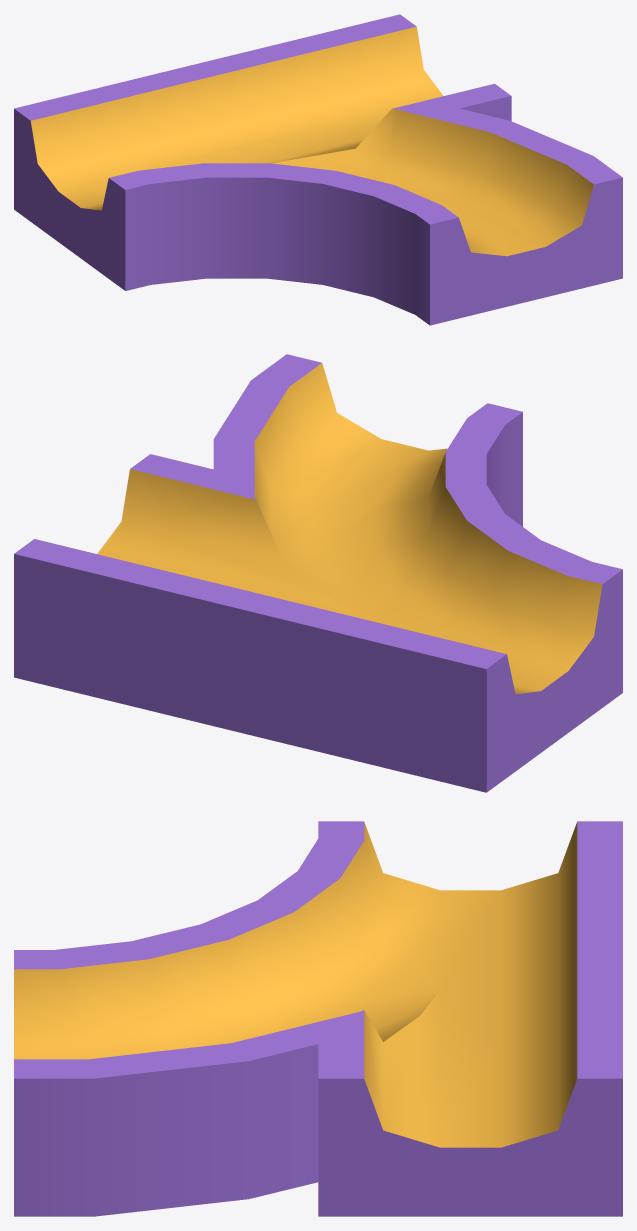
File: kenney-marble-split-right.glb
The picture shows the model from 3 angles, top to bottom: view 1: azimuth 30°, elevation 25°; view 2: azimuth 150°, elevation 25°; view 3: azimuth 270°, elevation 25°; orthographic projection. The views are drawn at different scales.
Parts seen in each view (by area): view 1: split-right; view 2: split-right; view 3: split-right.
Part boxes in pixels (bbox=[...]): split-right: bbox=[14, 14, 622, 325]; split-right: bbox=[14, 354, 622, 792]; split-right: bbox=[14, 821, 622, 1216].
Bounding box in the file's own units: 2 × 0.5001 × 2.
Materials: 1 (1 with a texture image).
